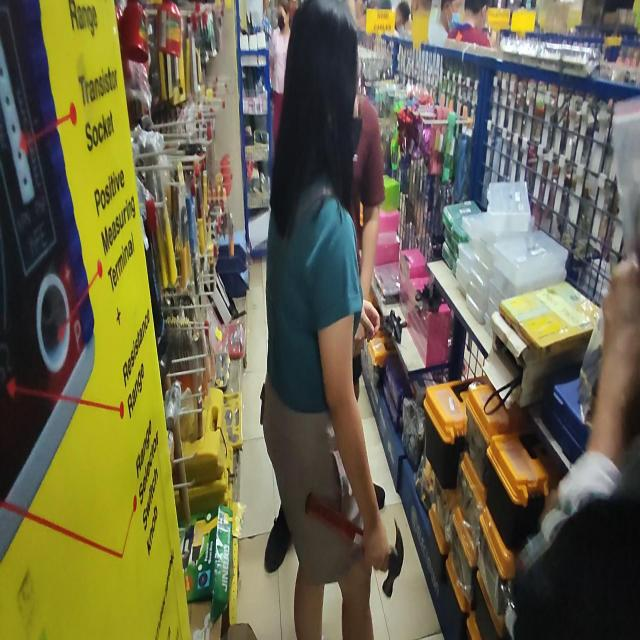hammer: (305, 493, 404, 598)
